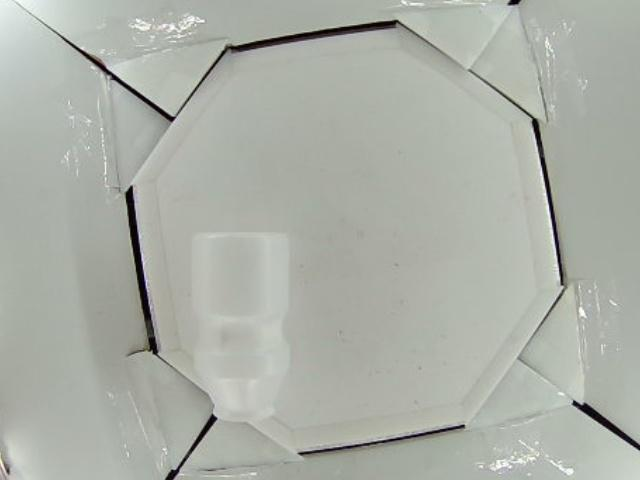Bottle: (190, 230, 292, 419)
